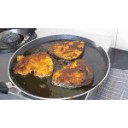seerfish: (51, 60, 95, 86), (16, 53, 53, 77), (48, 40, 85, 58)
